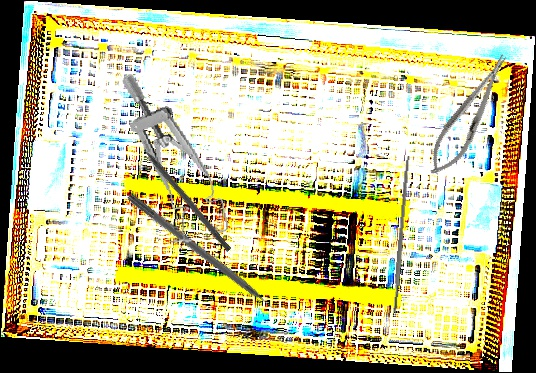Hook Surgical: (133, 135, 233, 253)
Needle Holder: (419, 47, 520, 184)
Pusher: (124, 191, 289, 324)
Scalpel Handle: (391, 156, 411, 312)
Speculum: (119, 60, 231, 251)
